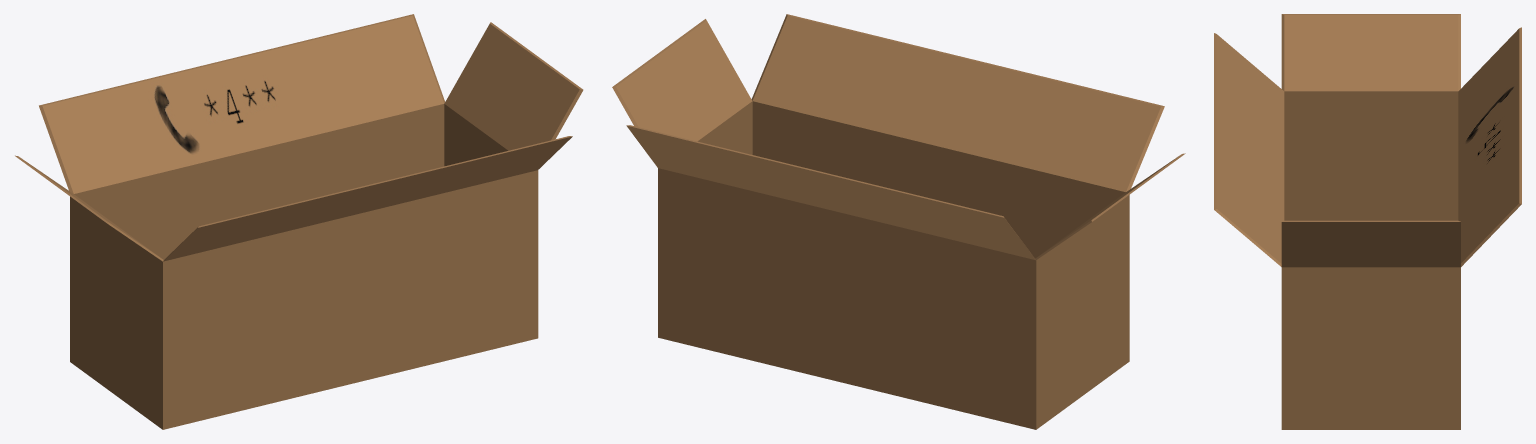
File: CardBox.FBX
3 views of the same model, side by side, from view 1: azimuth 30°, elevation 25°; view 2: azimuth 150°, elevation 25°; view 3: azimuth 270°, elevation 25° (orthographic). The views are drawn at different scales.
Parts seen in each view (by area): view 1: CardBox; view 2: CardBox; view 3: CardBox.
Part boxes in pixels (<box>): CardBox: <box>15,14,583,429</box>; CardBox: <box>612,14,1185,429</box>; CardBox: <box>1214,14,1521,429</box>.
Bounding box in the file's own units: 44.44 × 25.72 × 21.16.
2 materials, 2 textured.
